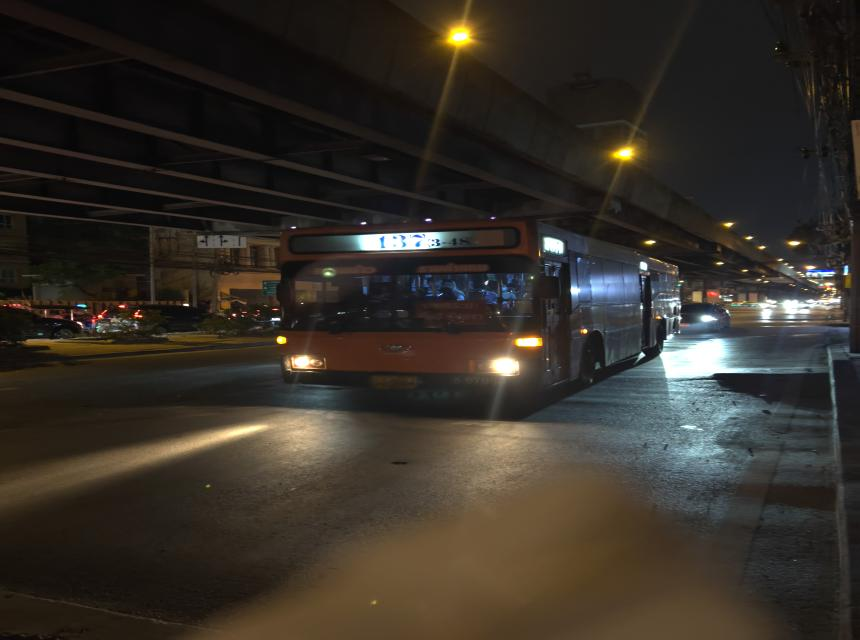BMTA-bus: (273, 218, 681, 415)
Bus Line Number: (377, 229, 477, 254)
Bus Side Number: (447, 374, 509, 387)
Destination Sign: (414, 300, 488, 325)
